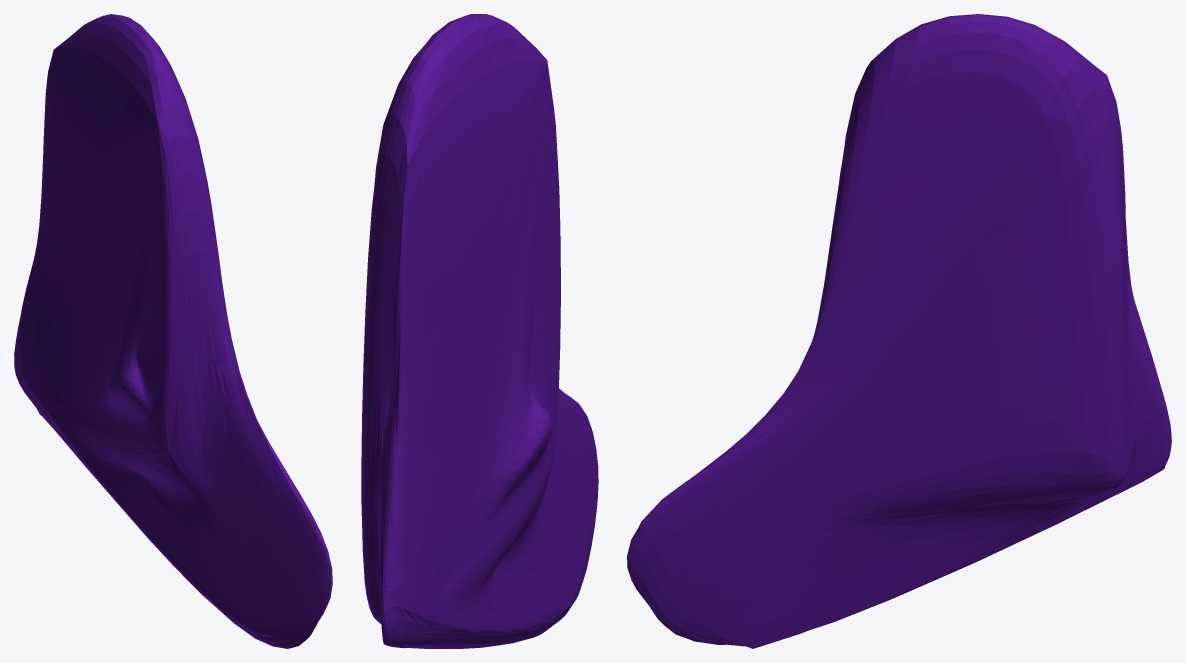
3 renders of one model, left to right at view 1: azimuth 30°, elevation 25°; view 2: azimuth 150°, elevation 25°; view 3: azimuth 270°, elevation 25°, orthographic. The views are drawn at different scales.
Visible parts, largest first — view 1: 516_Cube.2085; view 2: 516_Cube.2085; view 3: 516_Cube.2085.
Boxes of the visible parts, x1,y1,x2,y2 form: 516_Cube.2085: (14, 14, 332, 648); 516_Cube.2085: (361, 14, 598, 648); 516_Cube.2085: (627, 14, 1171, 648).
Size of the model in its own units: 2.46 by 14.38 by 11.44.
